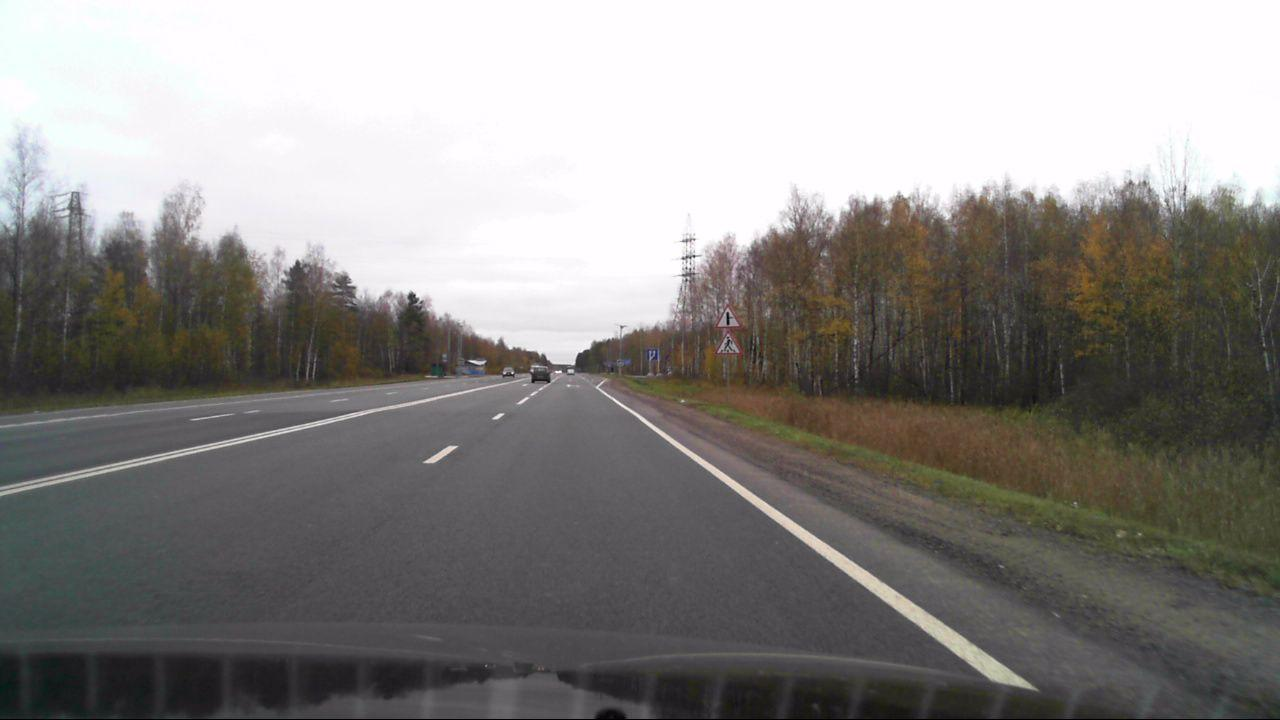1_22: (716, 331, 744, 356)
2_3_2: (716, 305, 741, 329)
5_15_3: (647, 349, 659, 360)
